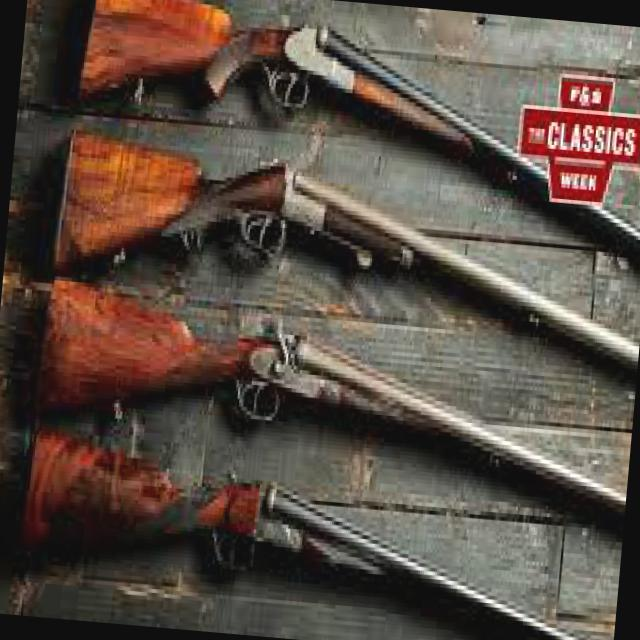long weapon: (25, 255, 623, 553), (37, 120, 638, 414), (73, 0, 640, 297), (7, 422, 613, 640)
